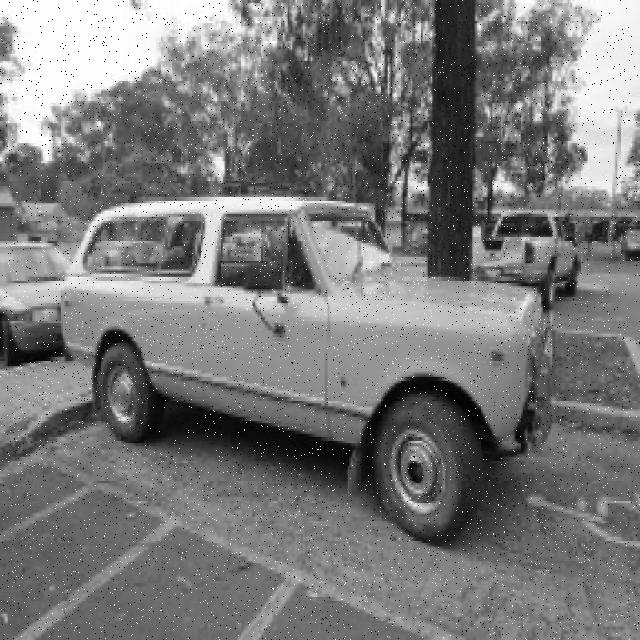SUV: (58, 195, 555, 549)
